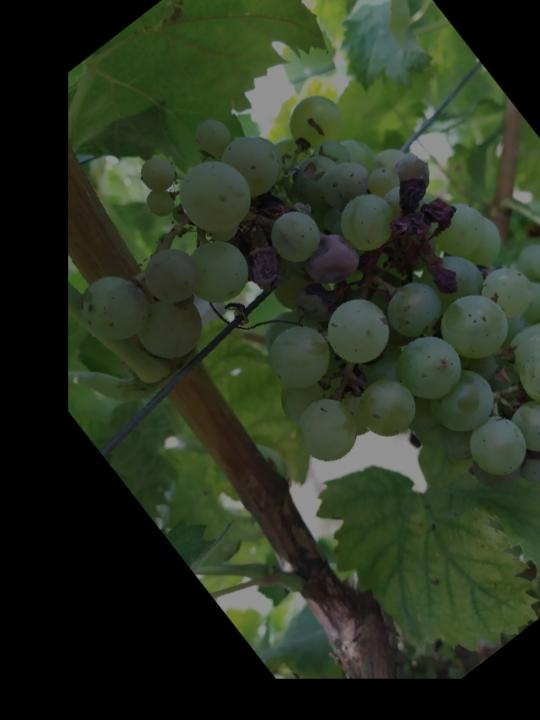grape: (25, 11, 540, 658)
